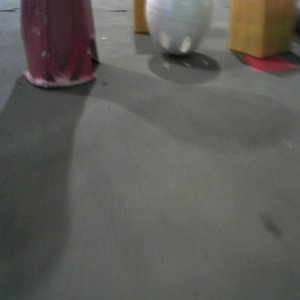right: (23, 1, 103, 90)
